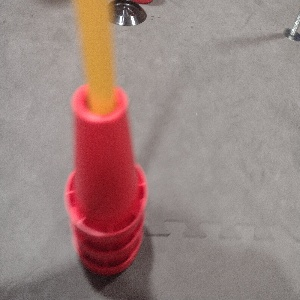Red_3: (63, 80, 147, 277)
